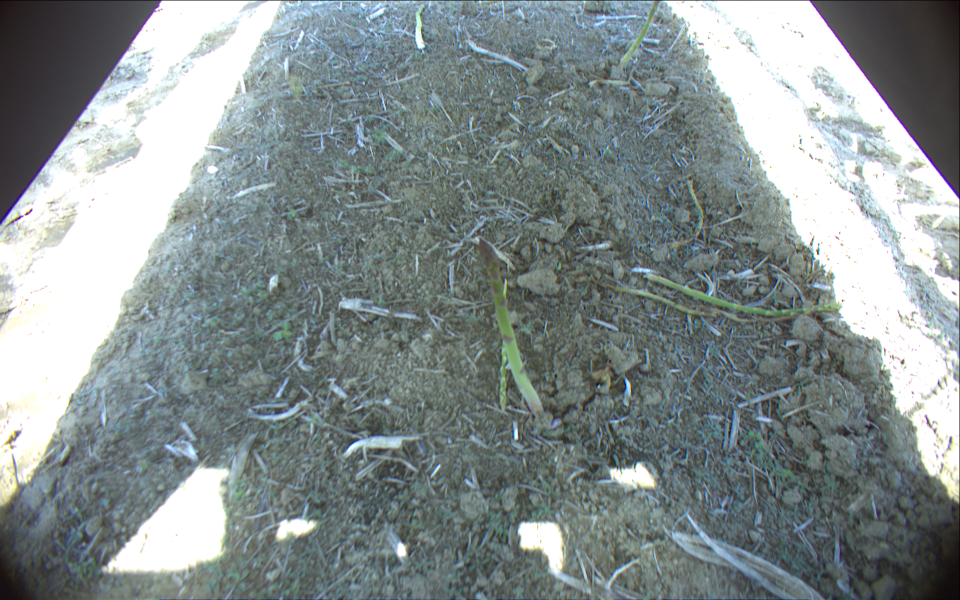aspa: (478, 240, 544, 419), (645, 274, 845, 317), (590, 280, 726, 320), (620, 1, 661, 66), (659, 24, 689, 60), (687, 179, 704, 238), (496, 343, 508, 409), (415, 2, 425, 50)
